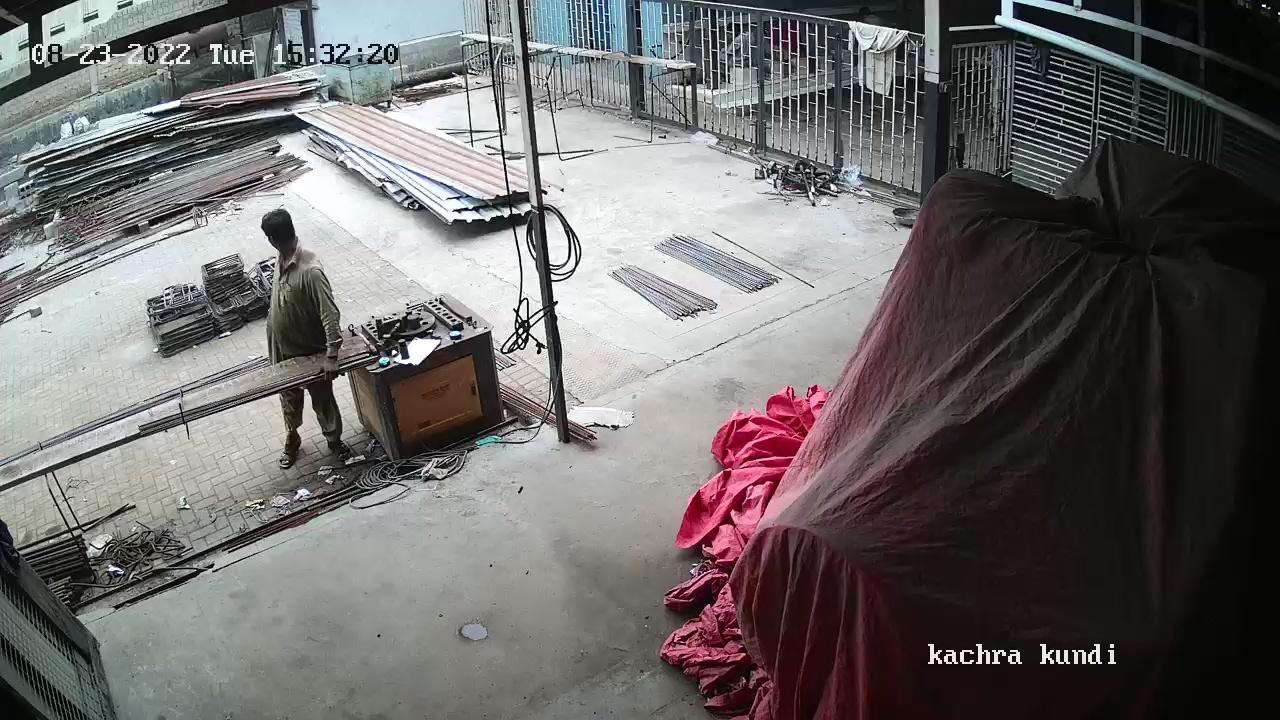person: (254, 203, 350, 466)
